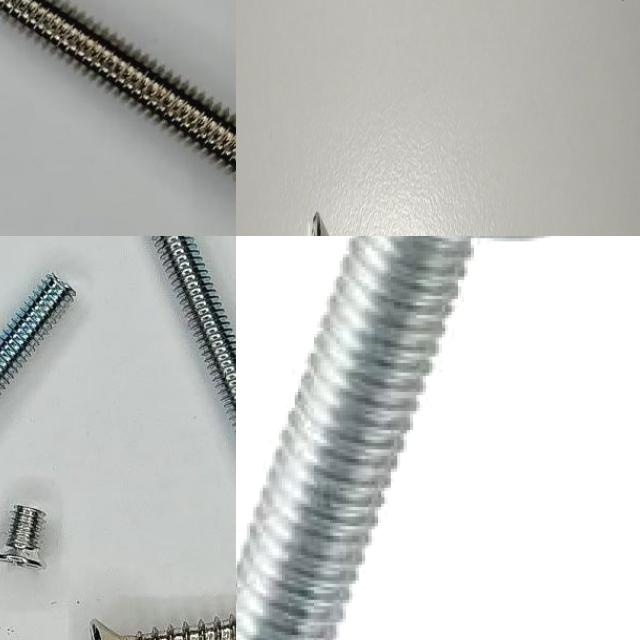Screw: (236, 236, 551, 640), (0, 0, 236, 173), (152, 236, 236, 425), (0, 274, 73, 391), (92, 616, 236, 640), (0, 506, 44, 568)
